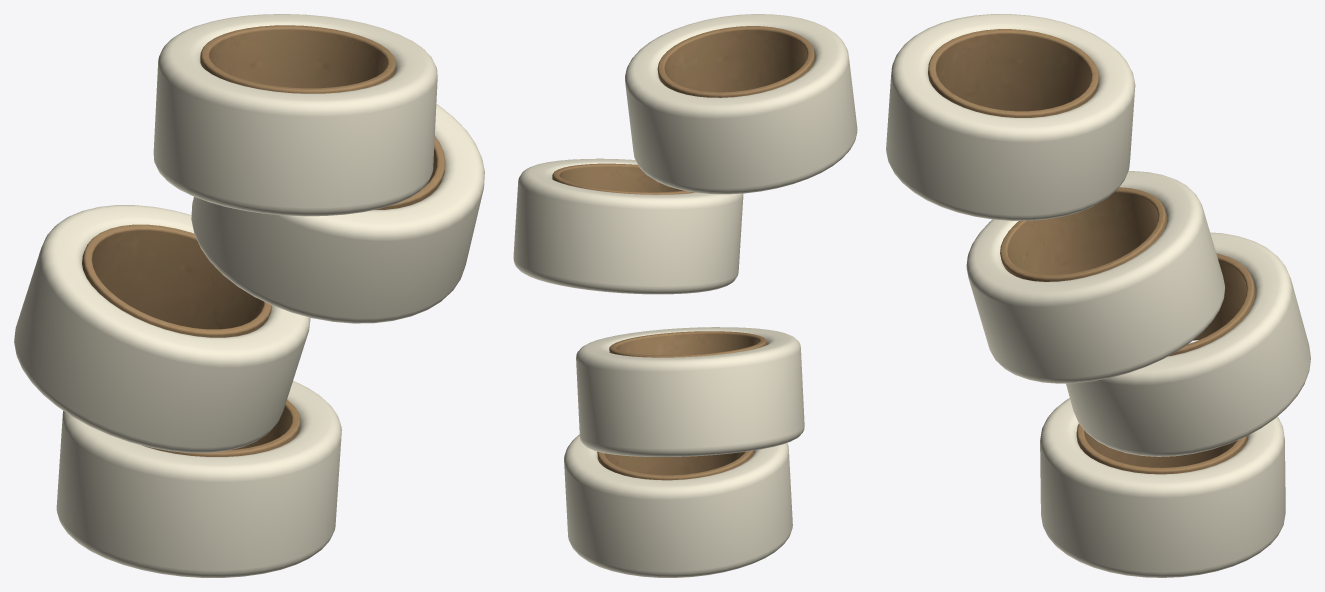
Rendered from PIN-FER-007_anim.glb.
The picture shows the model from 3 angles, left to right: view 1: azimuth 30°, elevation 25°; view 2: azimuth 150°, elevation 25°; view 3: azimuth 270°, elevation 25°; orthographic projection. The views are drawn at different scales.
Parts seen in each view (by area): view 1: PIN-FER-007_anim1, PIN-FER-007_anim3, PIN-FER-007_anim0, PIN-FER-007_anim2; view 2: PIN-FER-007_anim3, PIN-FER-007_anim1, PIN-FER-007_anim0, PIN-FER-007_anim2; view 3: PIN-FER-007_anim3, PIN-FER-007_anim2, PIN-FER-007_anim0, PIN-FER-007_anim1.
Part boxes in pixels (bbox=[...]): PIN-FER-007_anim1: bbox=[14, 205, 310, 452]; PIN-FER-007_anim3: bbox=[153, 14, 437, 216]; PIN-FER-007_anim0: bbox=[56, 380, 341, 577]; PIN-FER-007_anim2: bbox=[191, 104, 484, 323]; PIN-FER-007_anim3: bbox=[625, 14, 857, 194]; PIN-FER-007_anim1: bbox=[576, 327, 804, 456]; PIN-FER-007_anim0: bbox=[564, 434, 792, 577]; PIN-FER-007_anim2: bbox=[513, 158, 743, 294]; PIN-FER-007_anim3: bbox=[886, 14, 1135, 220]; PIN-FER-007_anim2: bbox=[966, 171, 1225, 383]; PIN-FER-007_anim0: bbox=[1040, 398, 1285, 577]; PIN-FER-007_anim1: bbox=[1066, 232, 1310, 456].
Size of the model in its own units: 0.171 by 0.2363 by 0.1909.
2 materials, 1 textured.
